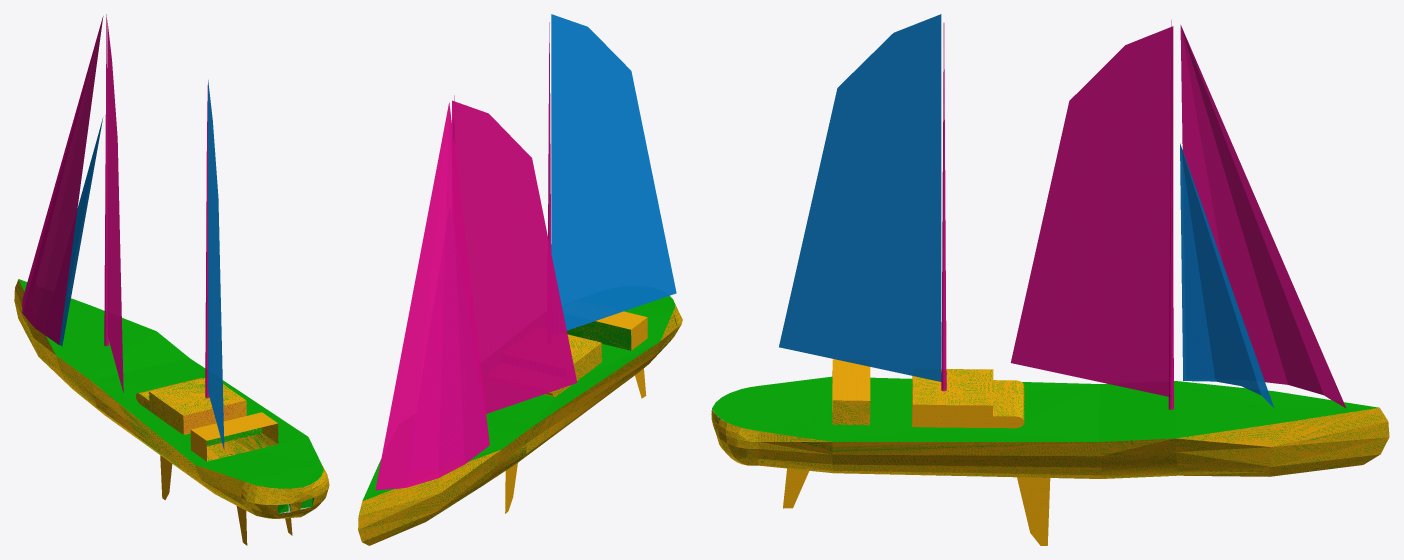
Rendered from TARA_GENNAKER_TRIBORD.dae.
The picture shows the model from 3 angles, left to right: view 1: azimuth 30°, elevation 25°; view 2: azimuth 150°, elevation 25°; view 3: azimuth 270°, elevation 25°; orthographic projection. The views are drawn at different scales.
Visible parts, largest first — view 1: SketchUp (×12); view 2: SketchUp (×10); view 3: SketchUp (×13).
Part boxes in pixels (<box>): SketchUp (×12): <box>14,14,329,518</box>; SketchUp (×10): <box>358,14,682,545</box>; SketchUp (×13): <box>711,14,1389,545</box>.
Size of the model in its own units: 43811 by 192456 by 166699.
